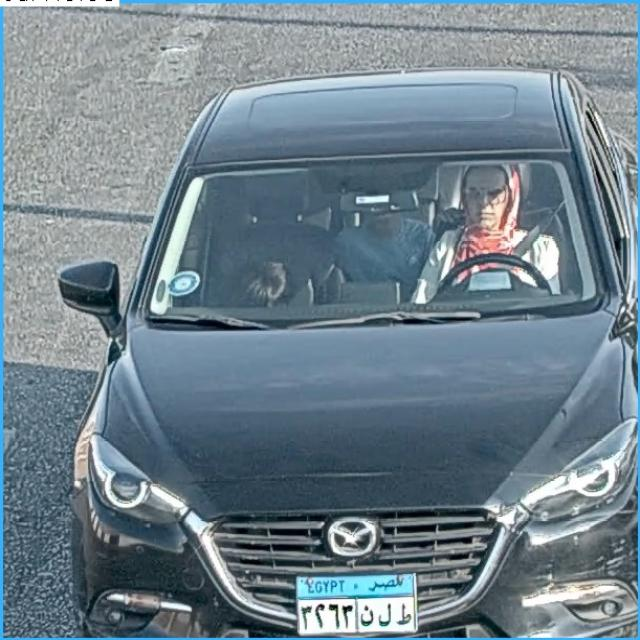windshield: (142, 156, 598, 316)
